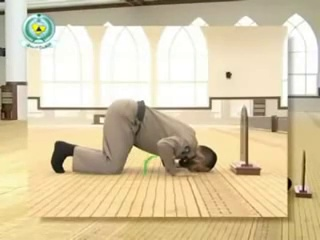sujud: (51, 99, 218, 174)
